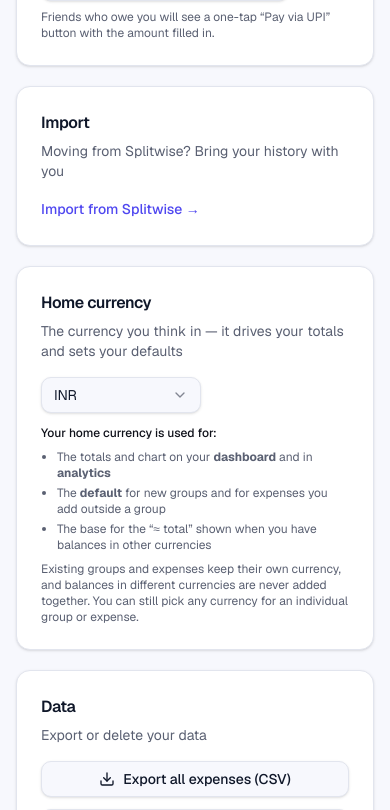
Test case: SettingsPage › default currency › lists INR first
The image size is (390, 810).
(page scrolled)
Click the dropdown.
click(121, 395)  # box [41, 377, 201, 413]
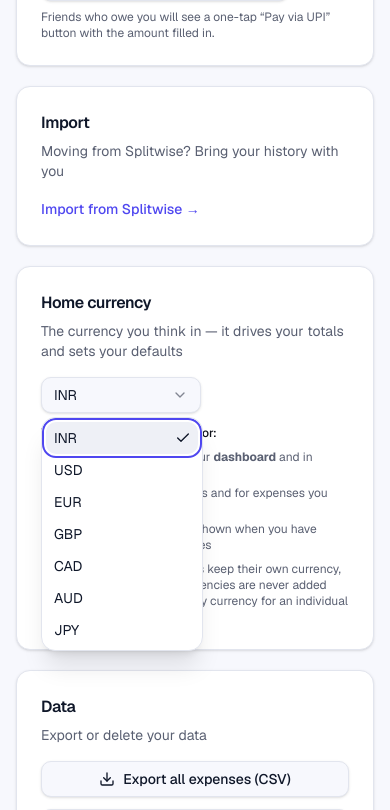
Expected: the text "INR" below "Import from Splitwise →" is shown, [54, 386, 77, 404]
Now the number of options is 7
